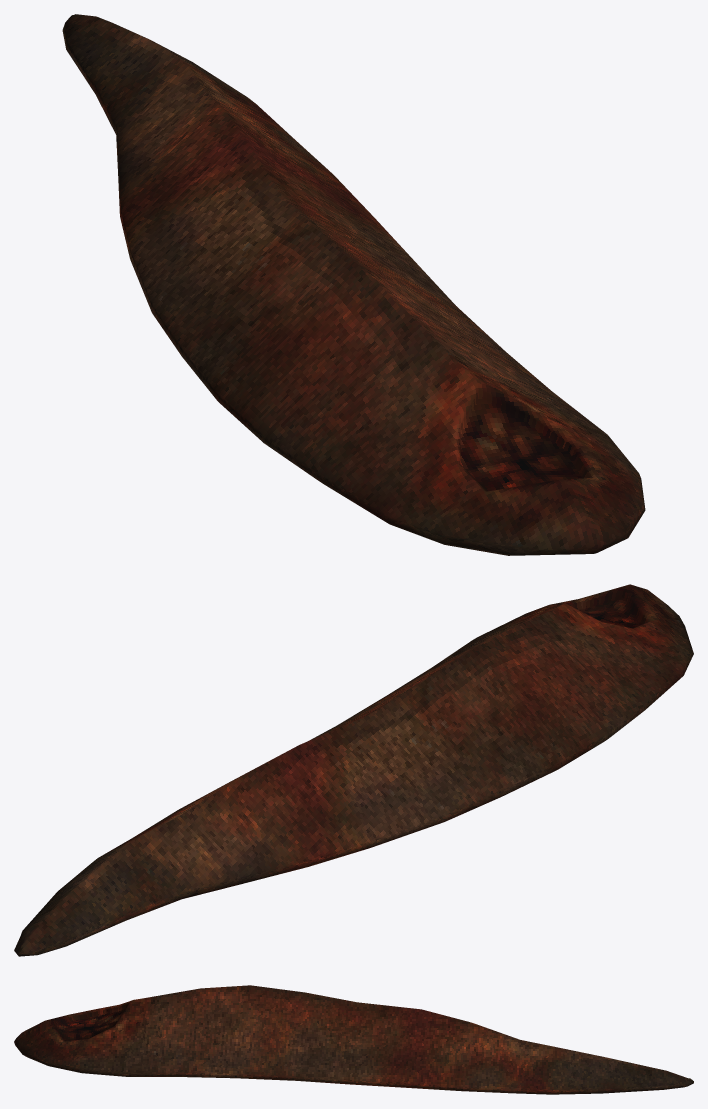
File: tape_worm.glb
The picture shows the model from 3 angles, top to bottom: view 1: azimuth 30°, elevation 25°; view 2: azimuth 150°, elevation 25°; view 3: azimuth 270°, elevation 25°; orthographic projection. The views are drawn at different scales.
Visible parts, largest first — view 1: tape_worm; view 2: tape_worm; view 3: tape_worm.
Part boxes in pixels (left/top/right/bottom): tape_worm: left=62, top=14, right=645, bottom=555; tape_worm: left=14, top=584, right=693, bottom=956; tape_worm: left=14, top=985, right=693, bottom=1094.
Bounding box in the file's own units: 0.2431 × 0.0856 × 0.8515.
Materials: 1 (1 with a texture image).
